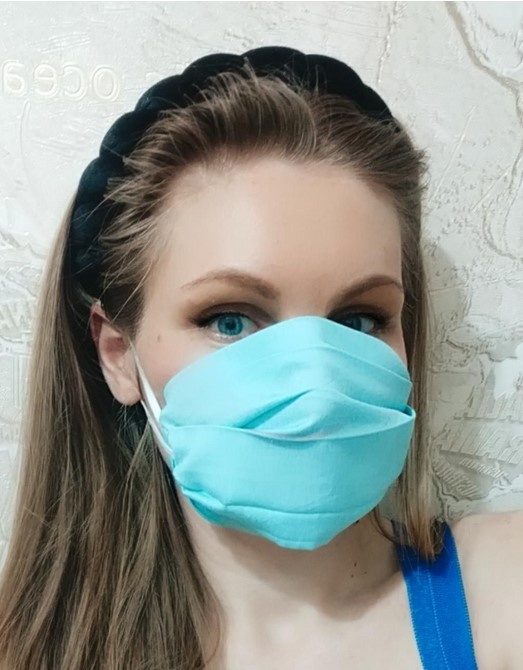face_with_mask: (84, 45, 416, 558)
